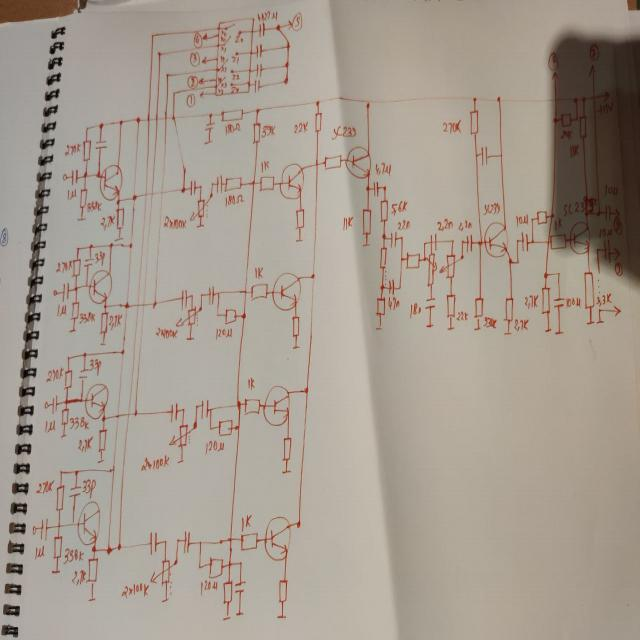capacitor: (602, 240, 612, 266), (148, 530, 158, 554), (39, 516, 48, 542), (200, 396, 210, 418), (61, 279, 70, 302), (479, 144, 488, 167), (603, 202, 613, 222), (464, 233, 474, 253), (520, 230, 529, 252), (424, 294, 436, 310), (429, 230, 437, 254), (180, 286, 188, 310), (182, 529, 190, 553), (68, 484, 80, 498), (93, 138, 107, 150), (215, 173, 223, 194), (170, 401, 178, 421), (234, 580, 246, 593), (203, 120, 216, 132), (78, 366, 88, 381), (208, 284, 215, 305), (372, 180, 380, 198), (82, 256, 94, 268), (70, 168, 78, 186), (387, 277, 395, 295), (553, 295, 564, 308), (389, 230, 396, 248), (51, 394, 57, 414), (190, 179, 196, 197), (255, 62, 262, 77), (258, 23, 265, 37), (254, 78, 260, 94), (256, 42, 262, 58)
crossover: (590, 92, 596, 101), (552, 95, 558, 104), (115, 410, 120, 420), (149, 189, 155, 197), (159, 188, 165, 196), (126, 410, 131, 418), (163, 113, 168, 121), (143, 190, 148, 198), (146, 115, 150, 124), (154, 115, 159, 122), (142, 300, 146, 308), (136, 301, 140, 309), (546, 238, 549, 243)
ground: (221, 613, 231, 621), (203, 138, 214, 145), (424, 321, 434, 328), (374, 324, 384, 331), (160, 596, 170, 603), (276, 613, 286, 620), (502, 330, 512, 336), (471, 325, 483, 330), (87, 596, 97, 602), (361, 242, 371, 248), (76, 216, 86, 222), (186, 335, 194, 342), (235, 610, 244, 616), (554, 330, 564, 335), (50, 569, 60, 574), (281, 469, 291, 474), (195, 223, 205, 228), (114, 236, 124, 241), (544, 327, 552, 333), (447, 325, 455, 331), (292, 344, 300, 350), (176, 458, 184, 464), (68, 327, 76, 333), (96, 458, 105, 463), (596, 319, 604, 324), (294, 237, 302, 242), (100, 340, 106, 346), (60, 433, 67, 438), (586, 320, 594, 324)
junction: (295, 517, 301, 529), (63, 395, 69, 407), (572, 95, 579, 105), (106, 544, 112, 555), (174, 534, 180, 545), (364, 98, 370, 109), (124, 299, 130, 310), (240, 310, 246, 320), (131, 192, 137, 202), (235, 398, 241, 408), (81, 348, 87, 358), (310, 270, 316, 280), (303, 384, 309, 394), (95, 169, 101, 179), (378, 282, 384, 292), (82, 169, 88, 179), (227, 534, 233, 544), (284, 58, 290, 68), (132, 408, 138, 417), (98, 121, 104, 130), (254, 105, 260, 114), (127, 240, 133, 249), (91, 544, 97, 553), (581, 95, 587, 104), (151, 299, 157, 308), (170, 112, 176, 121), (88, 240, 93, 250), (542, 270, 548, 278), (119, 346, 125, 354), (364, 184, 370, 192), (57, 467, 63, 475), (162, 537, 168, 545), (198, 290, 204, 298), (314, 98, 320, 106), (472, 95, 478, 103), (552, 116, 558, 124), (549, 211, 555, 219), (109, 465, 115, 473), (477, 238, 483, 246), (135, 115, 140, 124), (192, 419, 197, 428), (496, 95, 501, 104), (100, 415, 106, 422), (180, 186, 186, 193), (118, 118, 124, 125), (56, 522, 62, 529), (208, 191, 214, 198), (208, 110, 213, 118), (117, 542, 121, 552), (381, 232, 386, 240), (108, 242, 114, 248), (102, 303, 108, 309), (498, 152, 503, 159), (198, 537, 202, 545), (74, 468, 78, 476), (66, 353, 70, 361), (556, 269, 560, 277), (251, 178, 255, 186), (531, 237, 535, 245), (399, 254, 403, 262), (314, 158, 318, 166), (194, 401, 198, 409), (398, 282, 402, 290), (157, 49, 161, 57), (474, 150, 478, 158), (209, 405, 213, 413), (181, 405, 185, 413), (284, 76, 288, 84), (216, 287, 220, 295), (236, 423, 240, 430), (238, 559, 242, 566), (150, 31, 154, 38), (172, 89, 176, 96), (508, 257, 512, 264), (242, 287, 246, 294), (79, 396, 83, 403), (71, 520, 75, 527), (515, 237, 519, 244), (74, 285, 78, 292), (84, 125, 88, 132), (208, 424, 212, 431), (400, 234, 404, 241), (450, 237, 454, 244), (382, 184, 386, 191), (286, 41, 290, 48), (276, 23, 280, 30), (460, 253, 464, 260), (422, 255, 426, 262), (198, 304, 202, 311), (174, 557, 178, 564), (197, 563, 201, 569), (215, 311, 219, 317), (597, 307, 601, 313), (595, 246, 599, 252), (198, 183, 202, 189), (84, 282, 88, 288), (422, 240, 426, 246), (460, 238, 464, 244), (165, 71, 169, 76), (516, 259, 520, 264), (530, 216, 534, 221), (210, 181, 214, 186), (75, 246, 79, 251), (116, 199, 120, 204), (596, 210, 600, 215), (190, 292, 193, 298), (584, 212, 588, 216)
resistor: (150, 557, 172, 587), (189, 193, 208, 222), (438, 251, 456, 281), (168, 424, 188, 451), (176, 305, 198, 327), (583, 270, 594, 309), (426, 252, 437, 286), (208, 555, 224, 578), (85, 556, 98, 584), (240, 531, 258, 551), (243, 394, 261, 414), (224, 174, 245, 191), (220, 107, 243, 122), (250, 282, 268, 301), (322, 153, 342, 170), (502, 294, 514, 322), (361, 206, 372, 236), (472, 294, 484, 320), (405, 250, 421, 269), (468, 106, 478, 136), (54, 483, 64, 512), (52, 533, 62, 562), (550, 232, 566, 250), (258, 173, 274, 191), (217, 418, 233, 436), (445, 291, 455, 319), (541, 284, 550, 314), (378, 198, 388, 224), (222, 578, 232, 604), (278, 578, 288, 604), (81, 136, 91, 162), (291, 315, 301, 340), (282, 436, 292, 461), (99, 310, 109, 334), (375, 294, 385, 318), (97, 428, 107, 452), (578, 113, 587, 139), (224, 306, 237, 324), (115, 206, 125, 229), (294, 207, 304, 230), (560, 110, 572, 128), (62, 368, 72, 389), (70, 300, 80, 321), (536, 208, 548, 225), (252, 120, 260, 145), (71, 257, 81, 277), (379, 245, 387, 268), (79, 187, 87, 209), (314, 110, 322, 132), (60, 407, 69, 426)
switch: (222, 34, 240, 56), (216, 75, 234, 93), (217, 59, 233, 76), (224, 21, 242, 36)
terminal: (613, 243, 621, 260), (588, 62, 596, 76), (613, 305, 621, 316), (604, 89, 610, 101), (551, 70, 558, 80), (31, 524, 37, 535), (52, 287, 58, 298), (61, 172, 67, 182), (614, 207, 620, 217), (198, 76, 204, 85), (202, 32, 208, 40), (201, 56, 207, 64), (199, 90, 204, 98), (44, 400, 48, 409)
text: (120, 579, 148, 599), (139, 453, 169, 471), (562, 198, 584, 216), (203, 438, 225, 456), (62, 546, 84, 564), (602, 178, 620, 198), (332, 123, 356, 138), (46, 364, 64, 383), (163, 215, 187, 229), (68, 415, 90, 430), (390, 198, 408, 216), (441, 118, 461, 134), (82, 476, 96, 498), (155, 325, 177, 339), (256, 8, 278, 22), (200, 579, 218, 596), (63, 140, 81, 157), (35, 478, 53, 495), (56, 300, 68, 325), (224, 193, 244, 208), (595, 291, 613, 307), (374, 160, 392, 176), (522, 291, 538, 309), (483, 200, 501, 216), (77, 434, 93, 452), (436, 216, 454, 231), (596, 101, 614, 116), (408, 300, 422, 319), (88, 357, 102, 376), (214, 325, 233, 339), (588, 42, 600, 64), (70, 568, 86, 584), (99, 214, 115, 230), (224, 121, 241, 136), (55, 259, 73, 273), (514, 212, 530, 227), (290, 11, 302, 31), (240, 513, 252, 532), (547, 51, 559, 70), (261, 122, 276, 137), (513, 317, 529, 331), (79, 310, 95, 324), (482, 314, 497, 328), (456, 218, 472, 231), (86, 200, 102, 213), (342, 213, 353, 231), (94, 249, 105, 267), (559, 128, 573, 142), (386, 294, 399, 309), (568, 142, 580, 158), (565, 296, 581, 308), (396, 217, 410, 230), (613, 216, 623, 234), (193, 31, 203, 49), (44, 418, 56, 433), (110, 313, 122, 328), (293, 120, 308, 132), (247, 373, 256, 392), (598, 226, 612, 238), (254, 264, 264, 280), (190, 51, 200, 67), (34, 544, 44, 560), (235, 34, 248, 46), (553, 216, 563, 231), (614, 260, 623, 276), (187, 76, 199, 88), (66, 189, 78, 201), (456, 309, 468, 321), (186, 92, 195, 106), (218, 77, 228, 89), (260, 160, 270, 172), (232, 54, 240, 65), (231, 86, 241, 94), (294, 15, 300, 28), (220, 64, 228, 73), (590, 46, 596, 58), (194, 34, 200, 46), (188, 93, 194, 105), (232, 73, 242, 80), (219, 55, 225, 63), (221, 45, 227, 53), (192, 52, 196, 63), (551, 54, 555, 64), (616, 220, 620, 230), (616, 263, 620, 273), (190, 76, 194, 86), (221, 30, 227, 36), (220, 37, 226, 42)
transistor: (261, 381, 291, 427), (272, 271, 302, 311), (264, 515, 290, 561), (76, 498, 100, 546), (279, 161, 304, 200), (99, 163, 123, 201), (345, 145, 371, 179), (85, 382, 108, 420), (88, 269, 112, 304), (484, 221, 507, 257), (568, 220, 590, 254)
